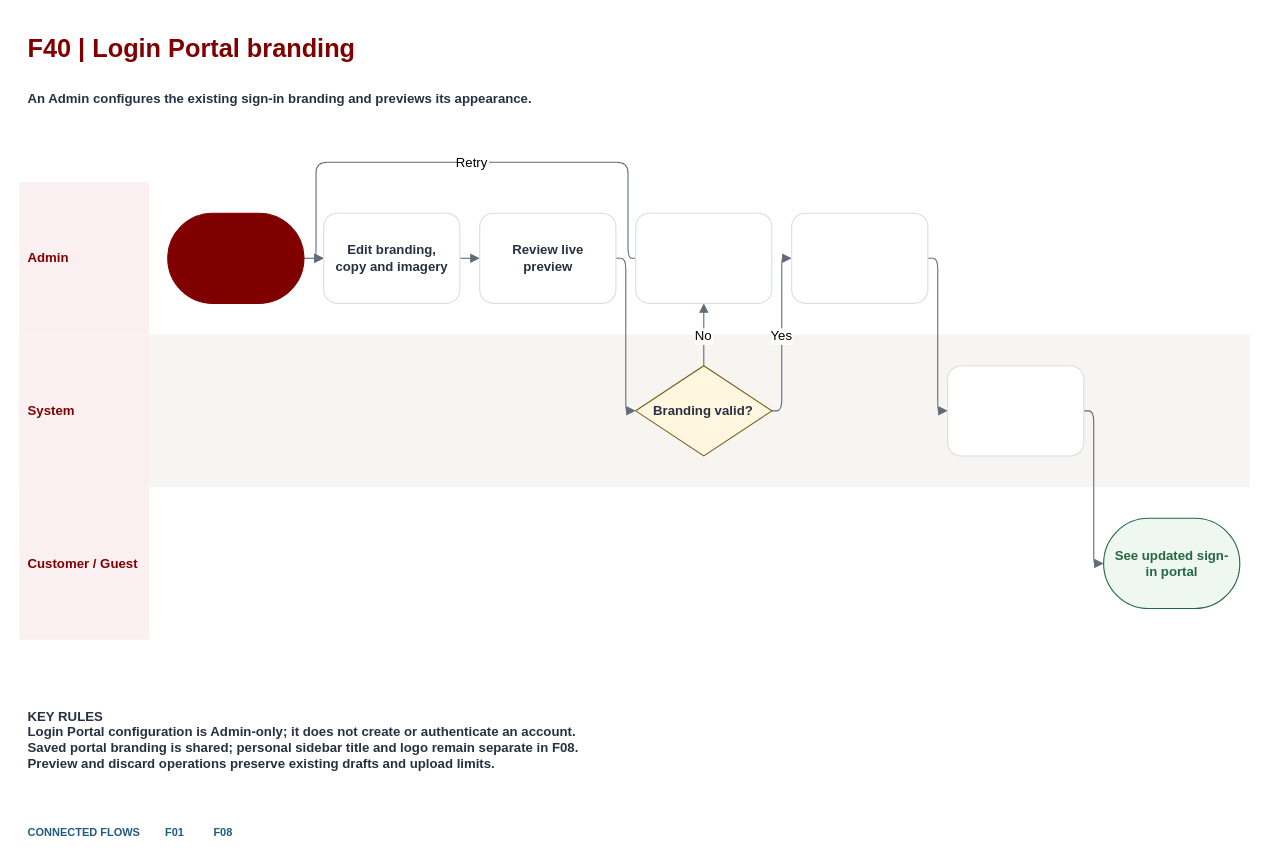
Image size: 1268x860. Some labels were removed from this diagram. Each missing label, with the centre of its shape:
"Choose Customer or operator portal" belongs at [235,257].
"Correct branding; keep draft" belongs at [703,257].
"Persist shared portal settings" belongs at [1015,410].
"Save portal appearance" belongs at [859,257].
